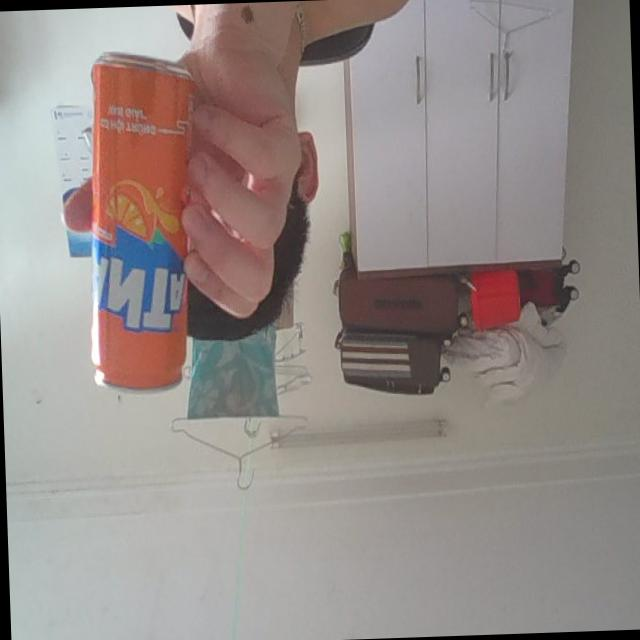Fanta: (78, 49, 204, 398)
